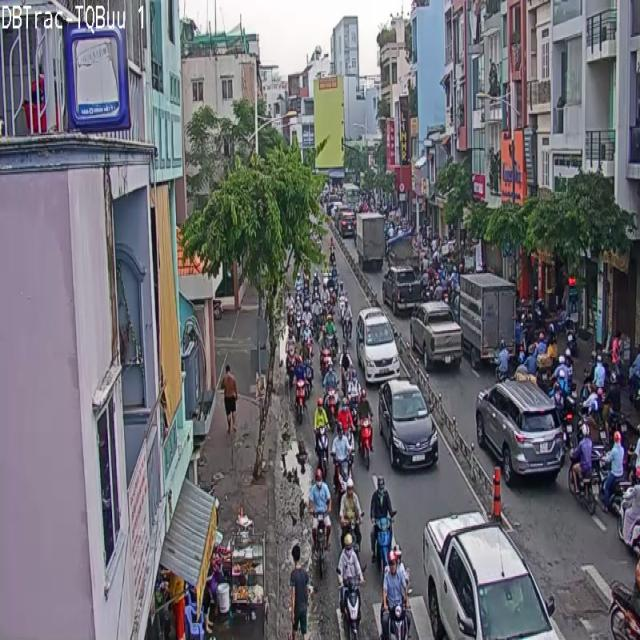car: (336, 532, 364, 639), (381, 550, 409, 639), (371, 476, 395, 570)
traffic-light: (422, 512, 559, 639), (476, 380, 563, 485), (379, 380, 438, 465), (356, 307, 399, 383)
